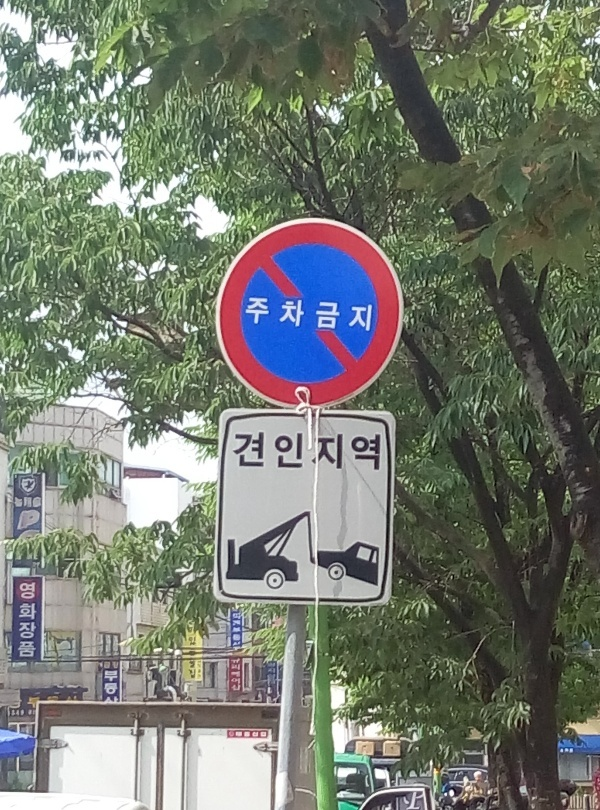text: (20, 582, 32, 660), (241, 432, 256, 473), (257, 432, 272, 473), (273, 432, 288, 473), (289, 432, 304, 473), (305, 432, 320, 473), (321, 432, 336, 473), (337, 432, 352, 473), (353, 432, 368, 473), (257, 298, 272, 334), (273, 298, 288, 334), (289, 298, 304, 334), (305, 298, 320, 334), (321, 298, 336, 334), (337, 298, 352, 334), (353, 298, 368, 334), (369, 432, 382, 473), (97, 634, 112, 661), (247, 298, 256, 334), (33, 582, 37, 660), (231, 658, 240, 691), (187, 620, 192, 679), (232, 613, 240, 648), (18, 511, 32, 531), (33, 695, 48, 713), (49, 695, 64, 713), (234, 432, 240, 473), (193, 620, 197, 679), (65, 695, 78, 713), (105, 670, 112, 703), (17, 496, 32, 511), (113, 670, 119, 703), (113, 634, 120, 661), (33, 511, 41, 531), (241, 730, 256, 740), (369, 298, 373, 334), (33, 496, 41, 511), (17, 711, 32, 719), (257, 730, 268, 740), (268, 663, 272, 689), (27, 695, 32, 713), (273, 663, 276, 689), (561, 749, 574, 753), (235, 730, 240, 740), (10, 711, 16, 719), (33, 711, 37, 719), (14, 496, 16, 511)
